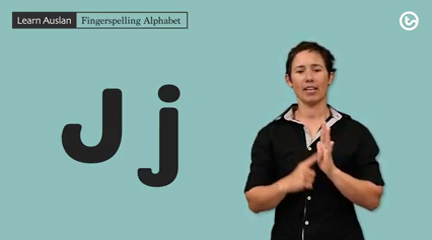J: (278, 115, 348, 201)
